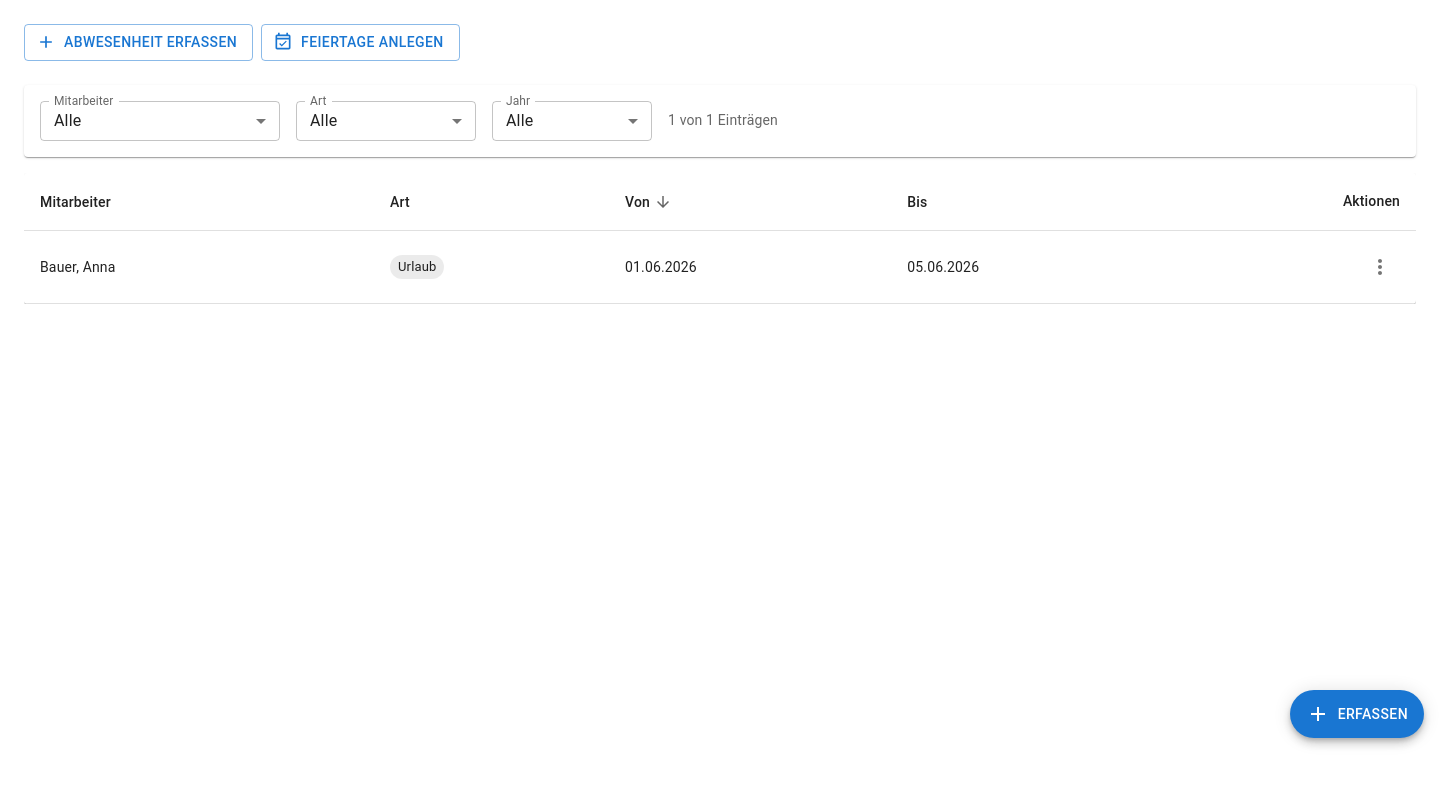
Test: AbsencesView › with a branch selected › does not delete when the confirm dialog is cancelled
Expected: the text "Urlaub" is shown, [398, 258, 436, 274]
Click the button named "Weitere Aktionen für Bauer, Anna".
click(1380, 267)  # box [1360, 247, 1400, 287]
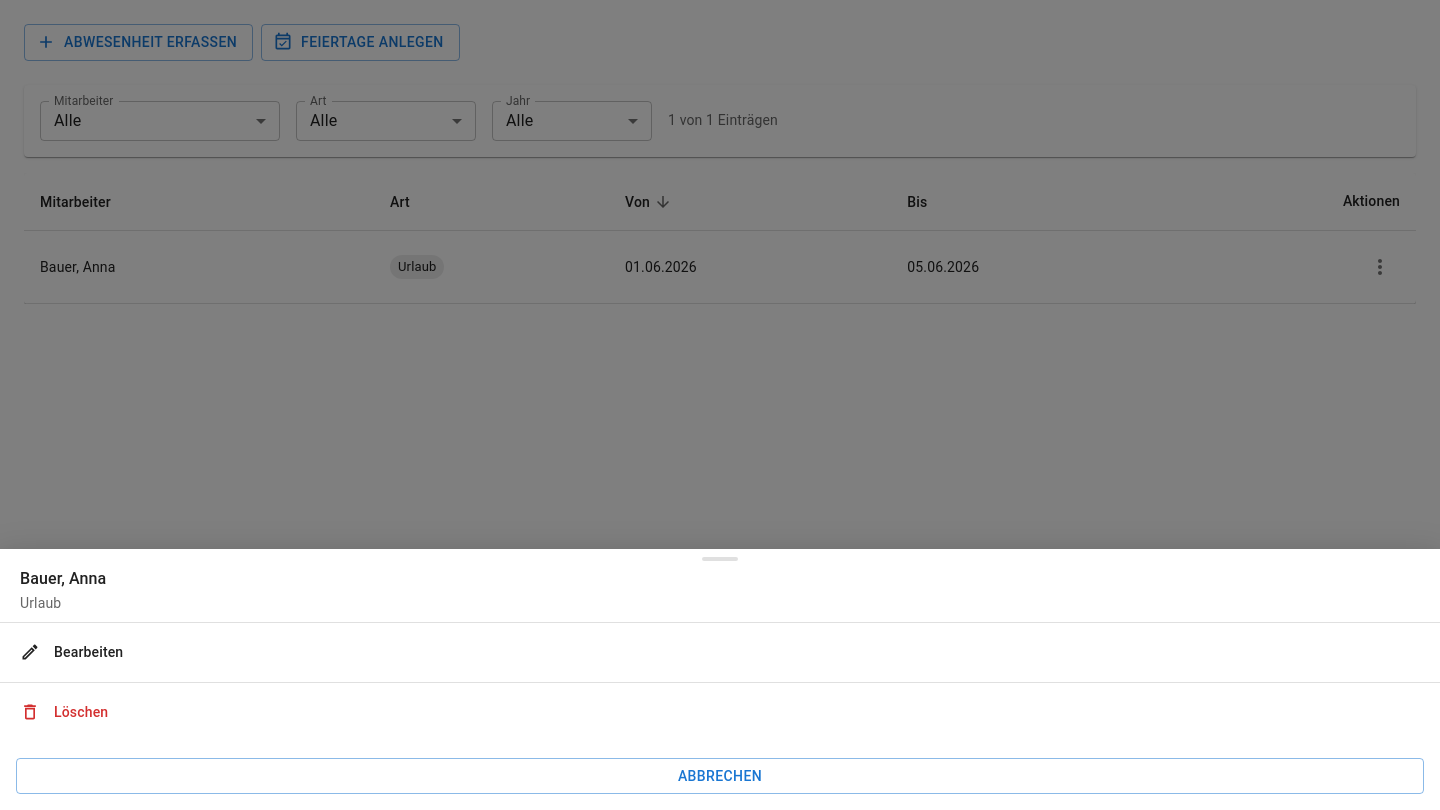
Click the button "Löschen".
click(81, 712)  # box [0, 682, 1439, 742]
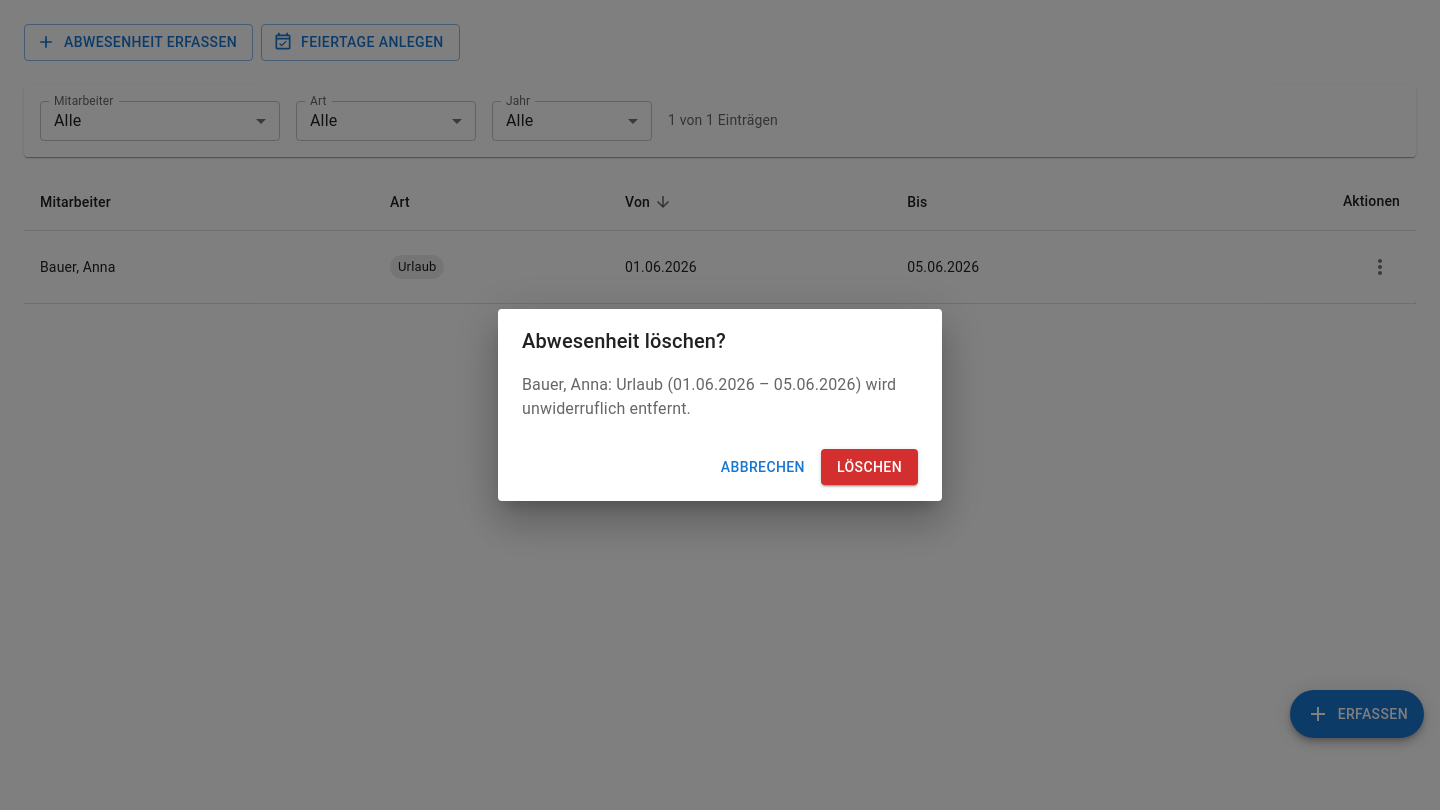
Click the button "Abbrechen".
click(763, 467)  # box [713, 449, 813, 485]
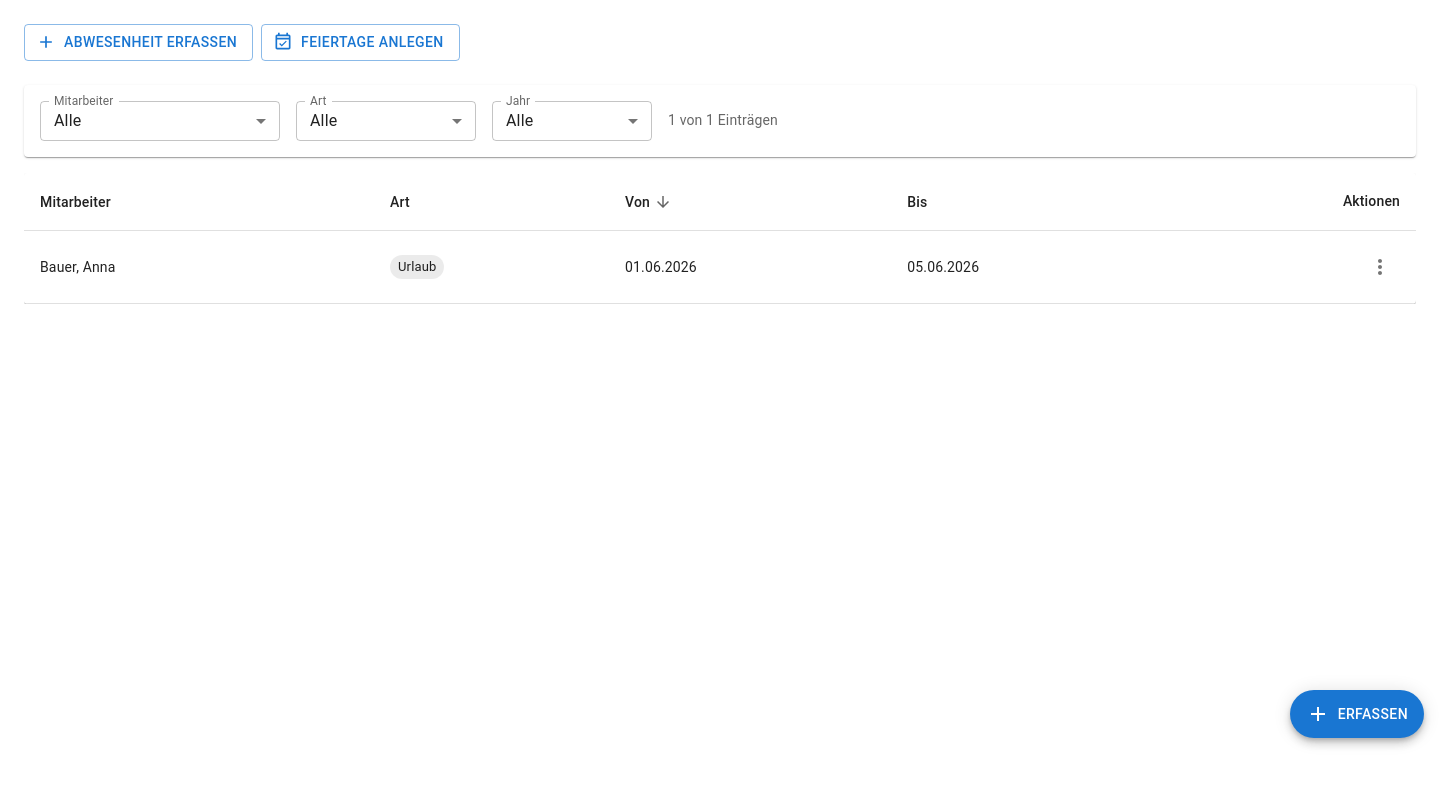
Now the dialog is gone
